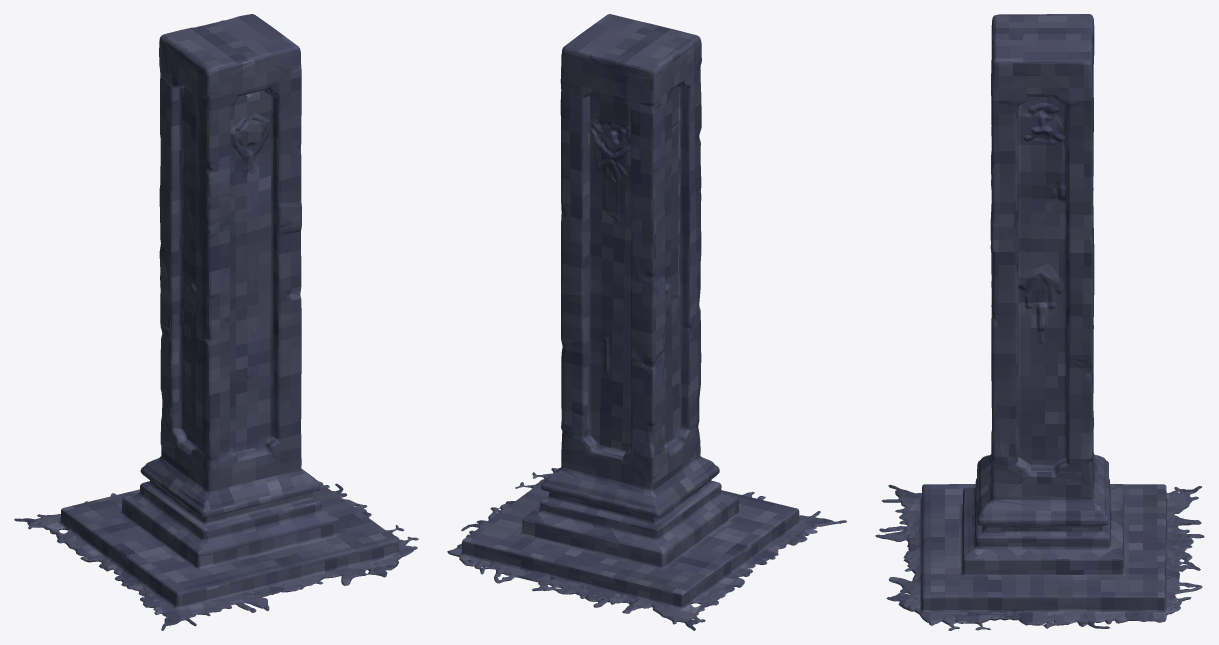
File: solitude-pillar-6.collider.glb
3 views of the same model, side by side, from view 1: azimuth 30°, elevation 25°; view 2: azimuth 150°, elevation 25°; view 3: azimuth 270°, elevation 25° (orthographic). The views are drawn at different scales.
Visible parts, largest first — view 1: temp_mesh.ply; view 2: temp_mesh.ply; view 3: temp_mesh.ply.
Boxes of the visible parts, x1=… form: temp_mesh.ply: x1=14, y1=14, x2=418, y2=630; temp_mesh.ply: x1=447, y1=14, x2=846, y2=630; temp_mesh.ply: x1=875, y1=14, x2=1204, y2=630.
Size of the model in its own units: 1.18 by 1.97 by 1.13.
Materials: 1 (1 with a texture image).
